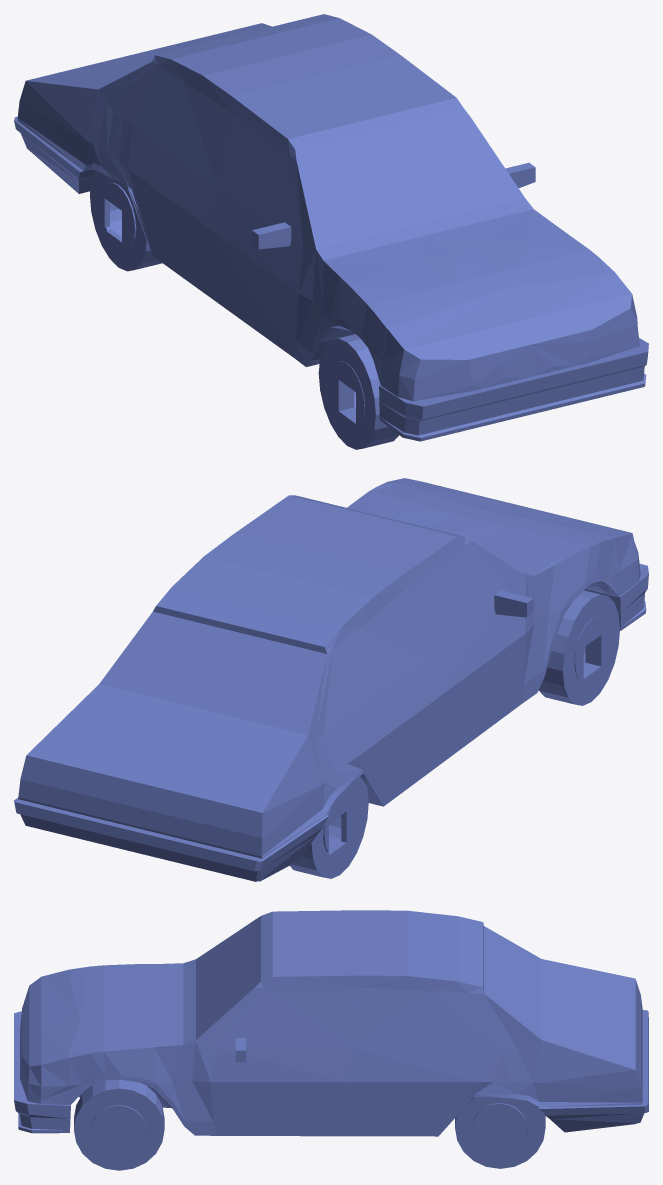
Rendered from CocheAzul.glb.
The picture shows the model from 3 angles, top to bottom: view 1: azimuth 30°, elevation 25°; view 2: azimuth 150°, elevation 25°; view 3: azimuth 270°, elevation 25°; orthographic projection. The views are drawn at different scales.
Parts seen in each view (by area): view 1: Mesh_Mesh_head_geo.001_lambert2SG.001; view 2: Mesh_Mesh_head_geo.001_lambert2SG.001; view 3: Mesh_Mesh_head_geo.001_lambert2SG.001.
Boxes of the visible parts, left/top/right/bottom form: Mesh_Mesh_head_geo.001_lambert2SG.001: left=14, top=14, right=648, bottom=449; Mesh_Mesh_head_geo.001_lambert2SG.001: left=14, top=478, right=648, bottom=881; Mesh_Mesh_head_geo.001_lambert2SG.001: left=14, top=910, right=648, bottom=1170.
Size of the model in its own units: 0.00235 by 0.00185 by 0.00587.
